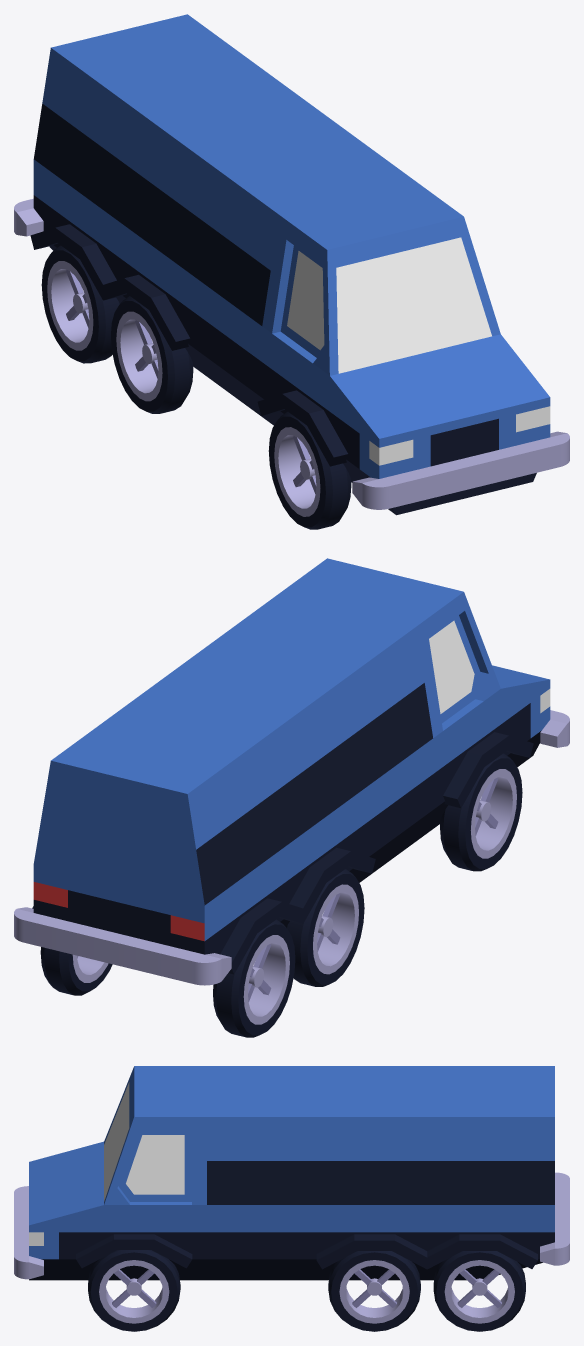
Rendered from car3.fbx.
3 renders of one model, top to bottom at view 1: azimuth 30°, elevation 25°; view 2: azimuth 150°, elevation 25°; view 3: azimuth 270°, elevation 25°, orthographic. The views are drawn at different scales.
Parts seen in each view (by area): view 1: mergedBlocks; view 2: mergedBlocks; view 3: mergedBlocks.
Boxes of the visible parts, left/top/right/bottom form: mergedBlocks: left=14, top=14, right=569, bottom=529; mergedBlocks: left=14, top=558, right=569, bottom=1037; mergedBlocks: left=14, top=1066, right=569, bottom=1331.
Bounding box in the file's own units: 12 × 15.08 × 37.
